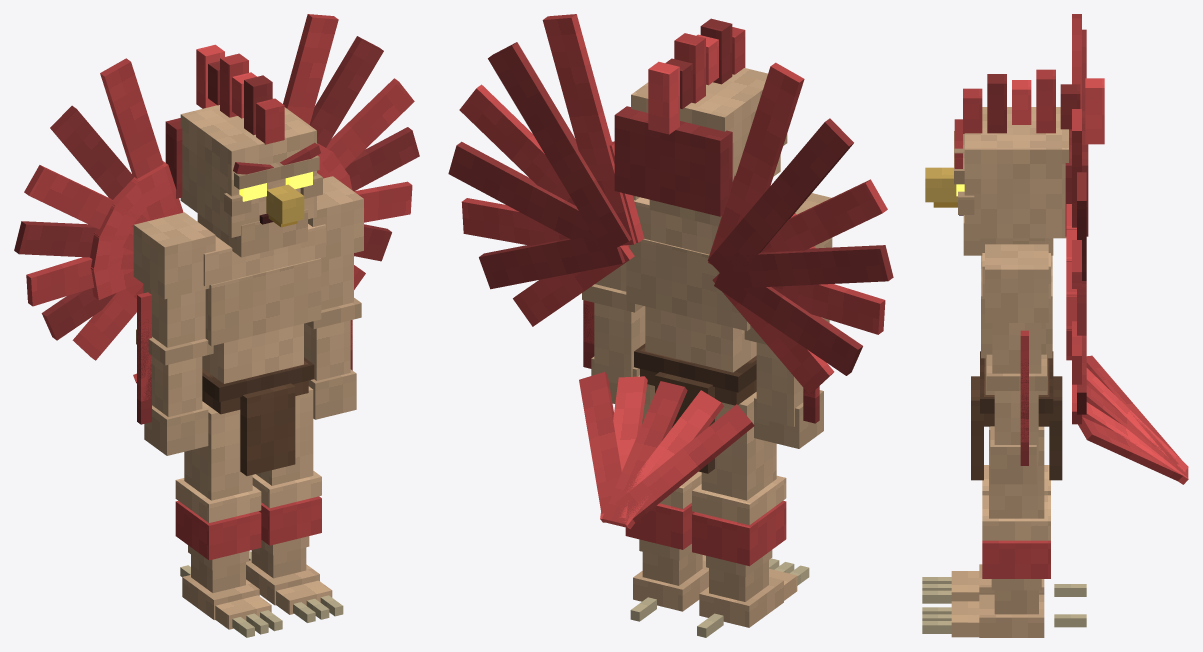
Rendered from harpy_base_v2.glb.
3 renders of one model, left to right at view 1: azimuth 30°, elevation 25°; view 2: azimuth 150°, elevation 25°; view 3: azimuth 270°, elevation 25°, orthographic. The views are drawn at different scales.
Parts seen in each view (by area): view 1: Torso, Head, ArmR, LegR, LegL, ArmL, Root; view 2: Torso, Head, LegR, LegL, ArmR, ArmL, Root; view 3: Head, Torso, ArmL, LegL, Root, LegR.
Part boxes in pixels (x1,y1,x2,y2): Torso: (14, 14, 419, 475); Head: (165, 44, 322, 257); ArmR: (133, 212, 215, 455); LegR: (175, 401, 271, 629); LegL: (246, 386, 332, 614); ArmL: (304, 176, 363, 419); Root: (180, 550, 343, 637); Torso: (448, 14, 893, 529); Head: (614, 18, 787, 226); LegR: (692, 392, 797, 627); LegL: (625, 375, 708, 611); ArmR: (744, 193, 832, 448); ArmL: (582, 195, 645, 403); Root: (630, 558, 809, 637); Head: (925, 69, 1104, 255); Torso: (971, 14, 1188, 484); ArmL: (985, 244, 1048, 484); LegL: (951, 426, 1050, 637); Root: (922, 577, 1086, 633); LegR: (951, 465, 1050, 601).
Bounding box in the file's own units: 1.46 × 1.85 × 0.8178.
24 materials, 24 textured.
